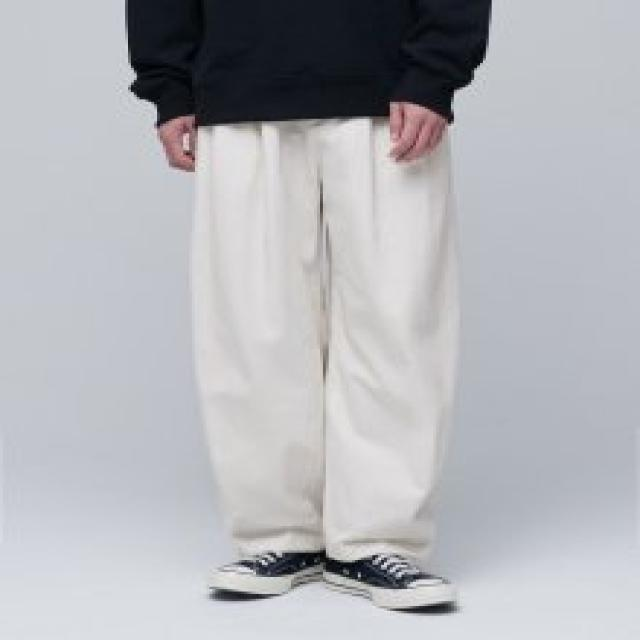long-pants: (190, 112, 455, 566)
